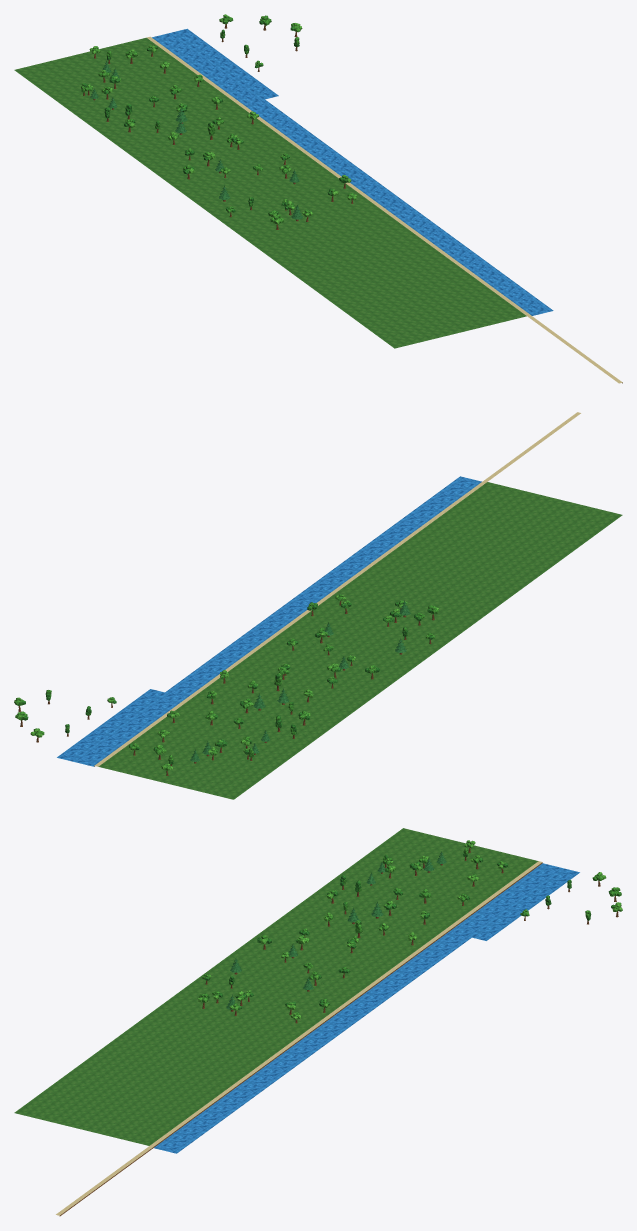
File: skirt_0.glb
The picture shows the model from 3 angles, top to bottom: view 1: azimuth 30°, elevation 25°; view 2: azimuth 150°, elevation 25°; view 3: azimuth 330°, elevation 25°; orthographic projection. The views are drawn at different scales.
Parts seen in each view (by area): view 1: skirt_0; view 2: skirt_0; view 3: skirt_0.
Boxes of the visible parts, bbox=[...] form: skirt_0: bbox=[14, 14, 622, 383]; skirt_0: bbox=[14, 412, 622, 799]; skirt_0: bbox=[14, 828, 622, 1216].
Size of the model in its own units: 88.37 by 6.11 by 288.
9 materials, 9 textured.
